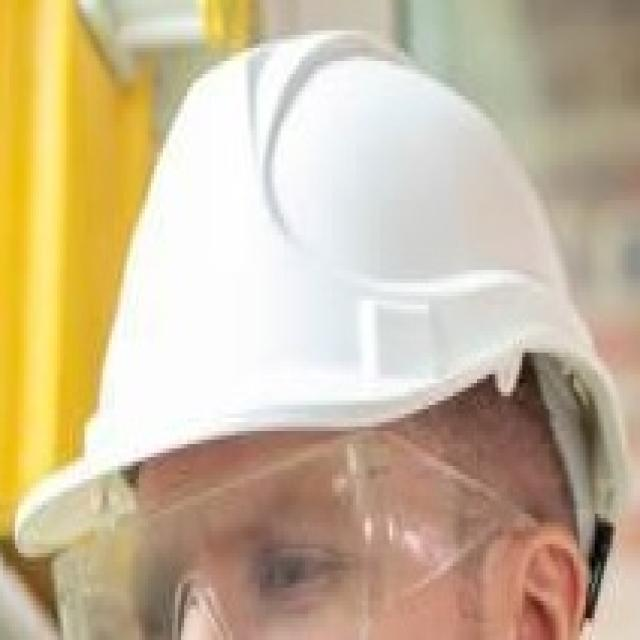helmet_white: (3, 2, 637, 638)
